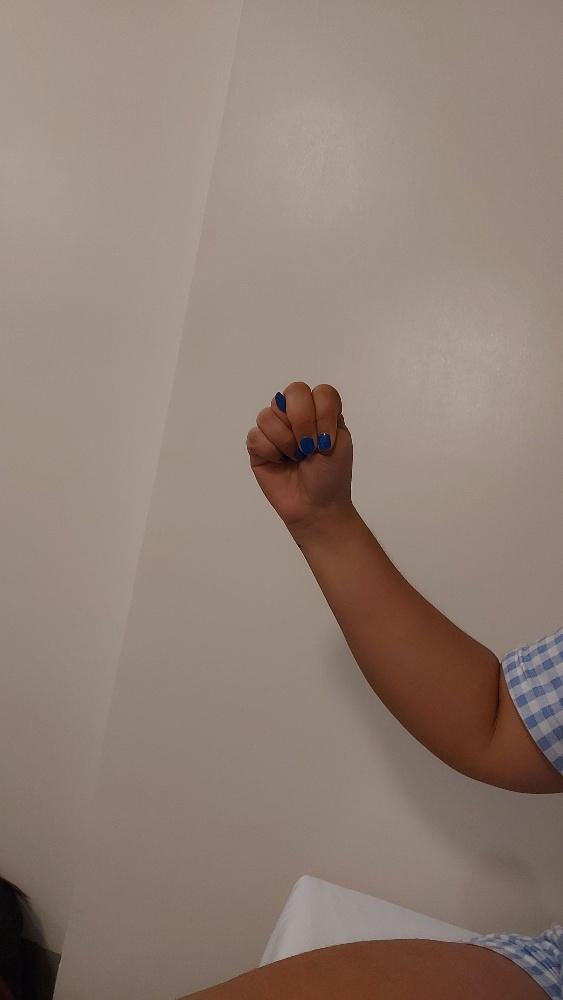n: (245, 378, 355, 525)
